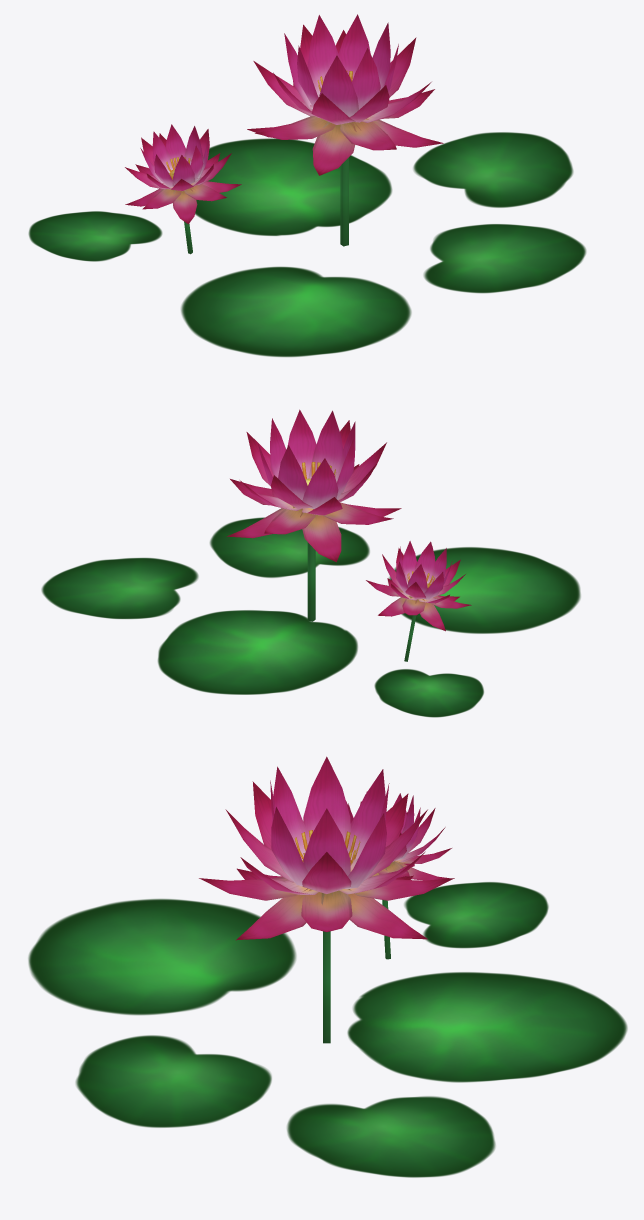
File: hand_painted_lotus_plant.glb
3 views of the same model, one above another, from view 1: azimuth 30°, elevation 25°; view 2: azimuth 150°, elevation 25°; view 3: azimuth 270°, elevation 25° (orthographic). The views are drawn at different scales.
Visible parts, largest first — view 1: Lotus; view 2: Lotus; view 3: Lotus.
Boxes of the visible parts, left/top/right/bottom form: Lotus: left=28, top=14, right=586, bottom=356; Lotus: left=41, top=409, right=580, bottom=717; Lotus: left=28, top=756, right=627, bottom=1177.
Size of the model in its own units: 1.41 by 0.5033 by 1.07.
1 material, 1 textured.
